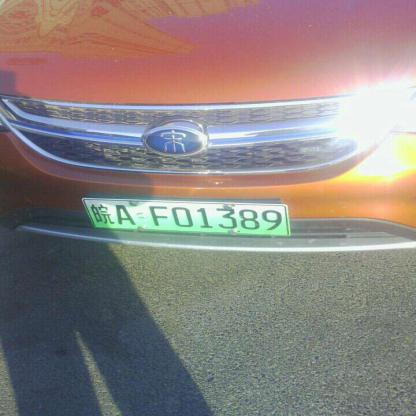lp: (84, 198, 287, 234)
